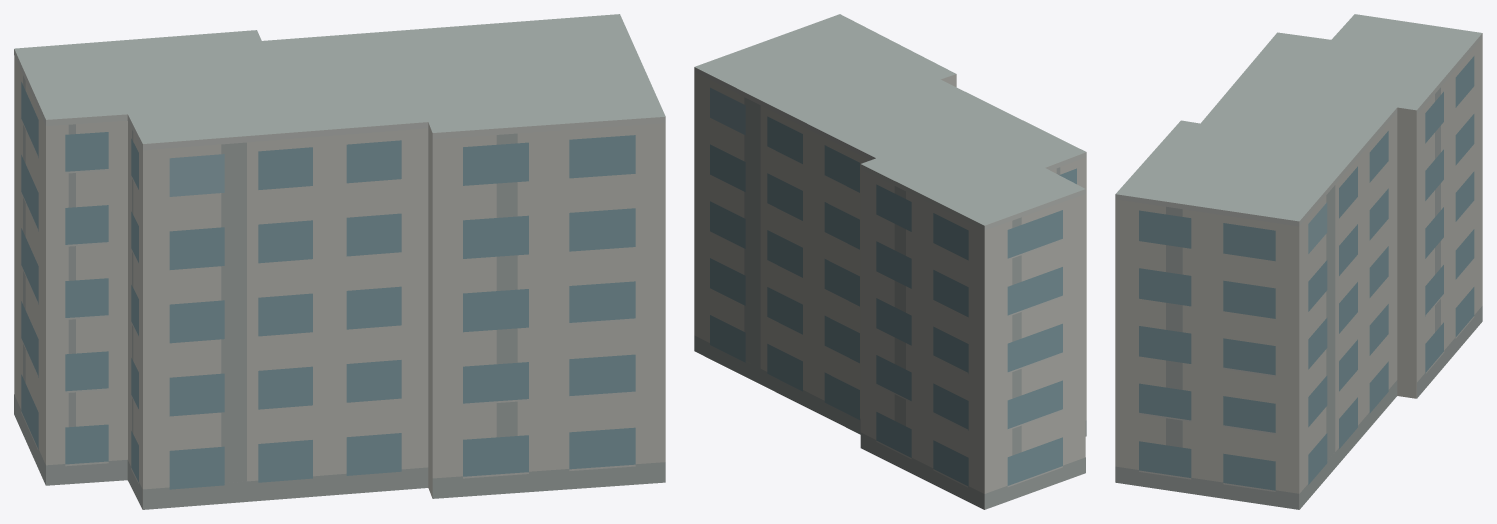
Rendered from survey-upis-32512958.glb.
3 renders of one model, left to right at view 1: azimuth 30°, elevation 25°; view 2: azimuth 150°, elevation 25°; view 3: azimuth 270°, elevation 25°, orthographic. The views are drawn at different scales.
Visible parts, largest first — view 1: survey-upis-32512958.tmp; view 2: survey-upis-32512958.tmp; view 3: survey-upis-32512958.tmp.
Part boxes in pixels (x1,y1,x2,y2): survey-upis-32512958.tmp: (14,14,665,509); survey-upis-32512958.tmp: (694,14,1086,509); survey-upis-32512958.tmp: (1115,14,1482,509).
Size of the model in its own units: 21.45 by 13.9 by 16.05.
